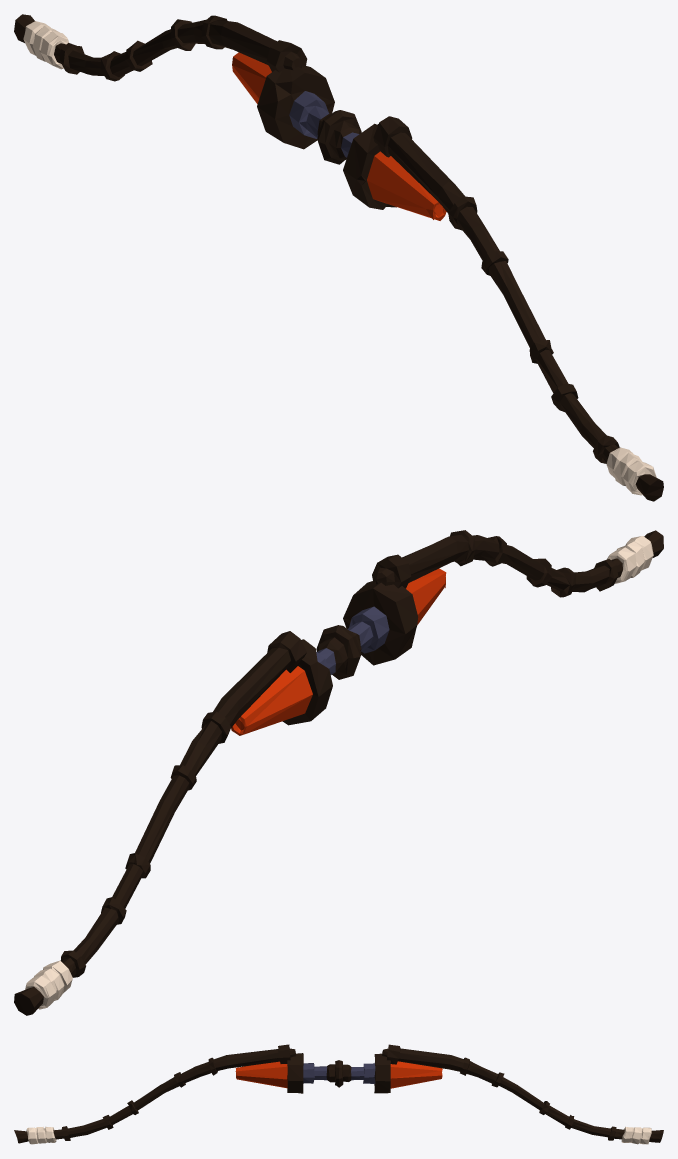
The model's file is SFFA_Bow_004.fbx.
3 views of the same model, one above another, from view 1: azimuth 30°, elevation 25°; view 2: azimuth 150°, elevation 25°; view 3: azimuth 270°, elevation 25° (orthographic). The views are drawn at different scales.
Parts seen in each view (by area): view 1: SFFA_Bow_004; view 2: SFFA_Bow_004; view 3: SFFA_Bow_004.
Boxes of the visible parts, x1,y1,x2,y2 form: SFFA_Bow_004: (14, 14, 663, 501); SFFA_Bow_004: (14, 530, 663, 1015); SFFA_Bow_004: (14, 1044, 663, 1144).
Bounding box in the file's own units: 8.32 × 24.66 × 145.
